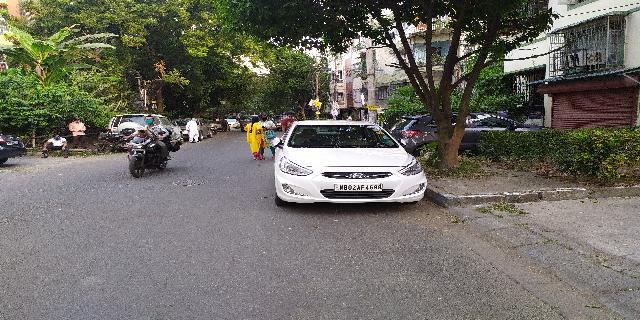Car: (272, 117, 429, 212)
Motorbike: (123, 129, 175, 180)
